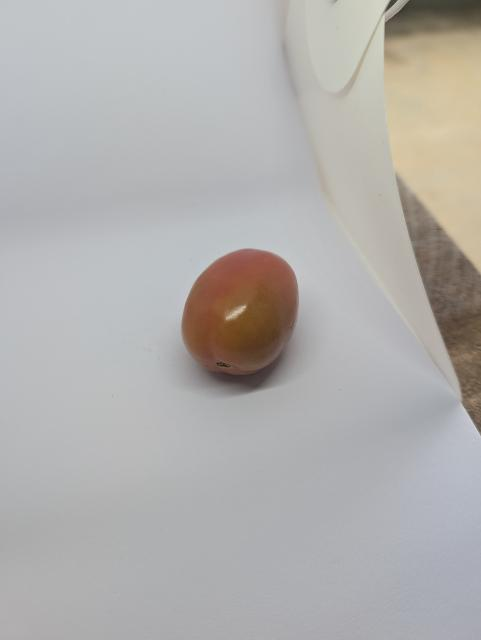turning: (171, 243, 314, 389)
